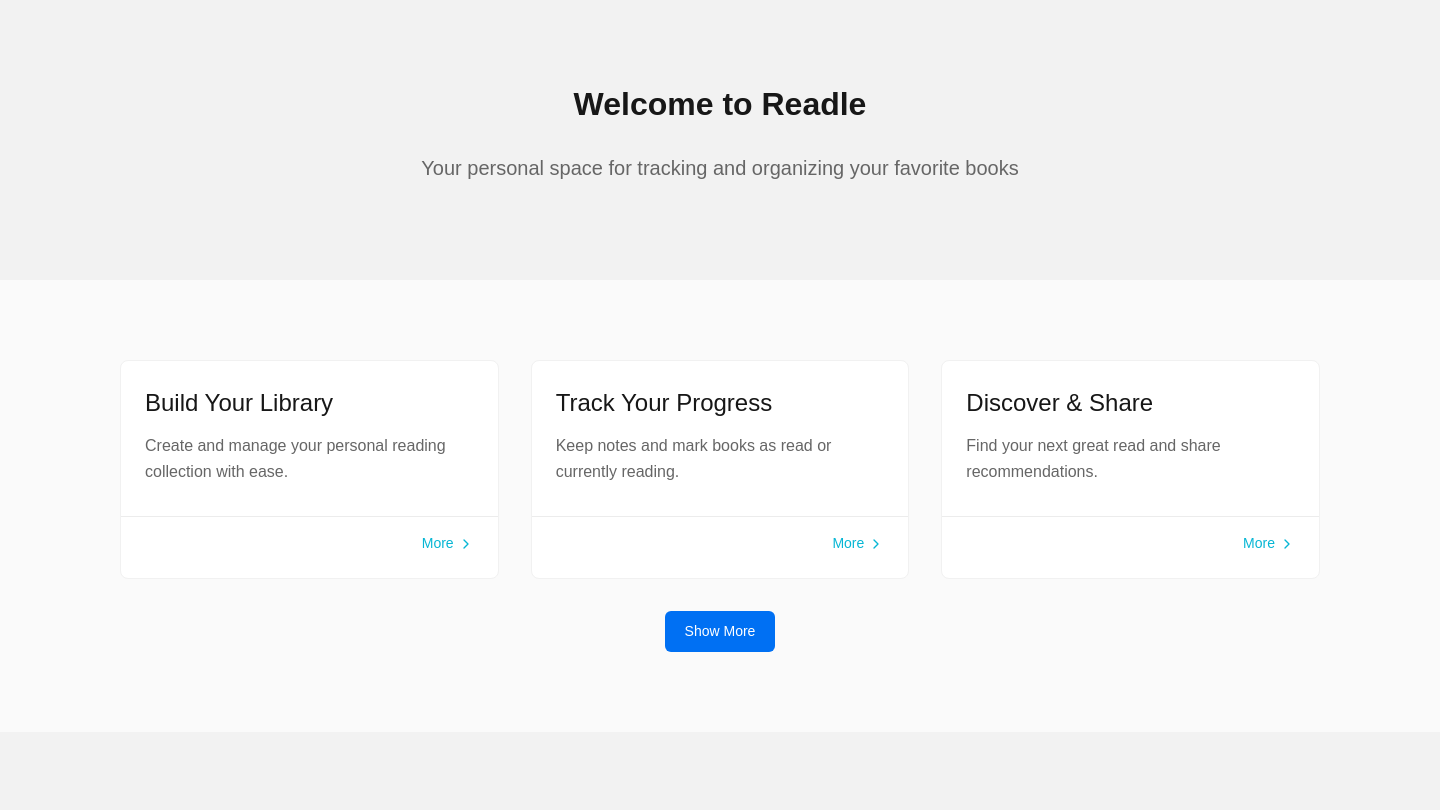
Test: Home Page › should shows the More Features list when the button is clicked
The width and height of the screenshot is (1440, 810).
Step 1. Click the button "Show More" → (720, 632), box [665,611,775,652]
(page scrolled)
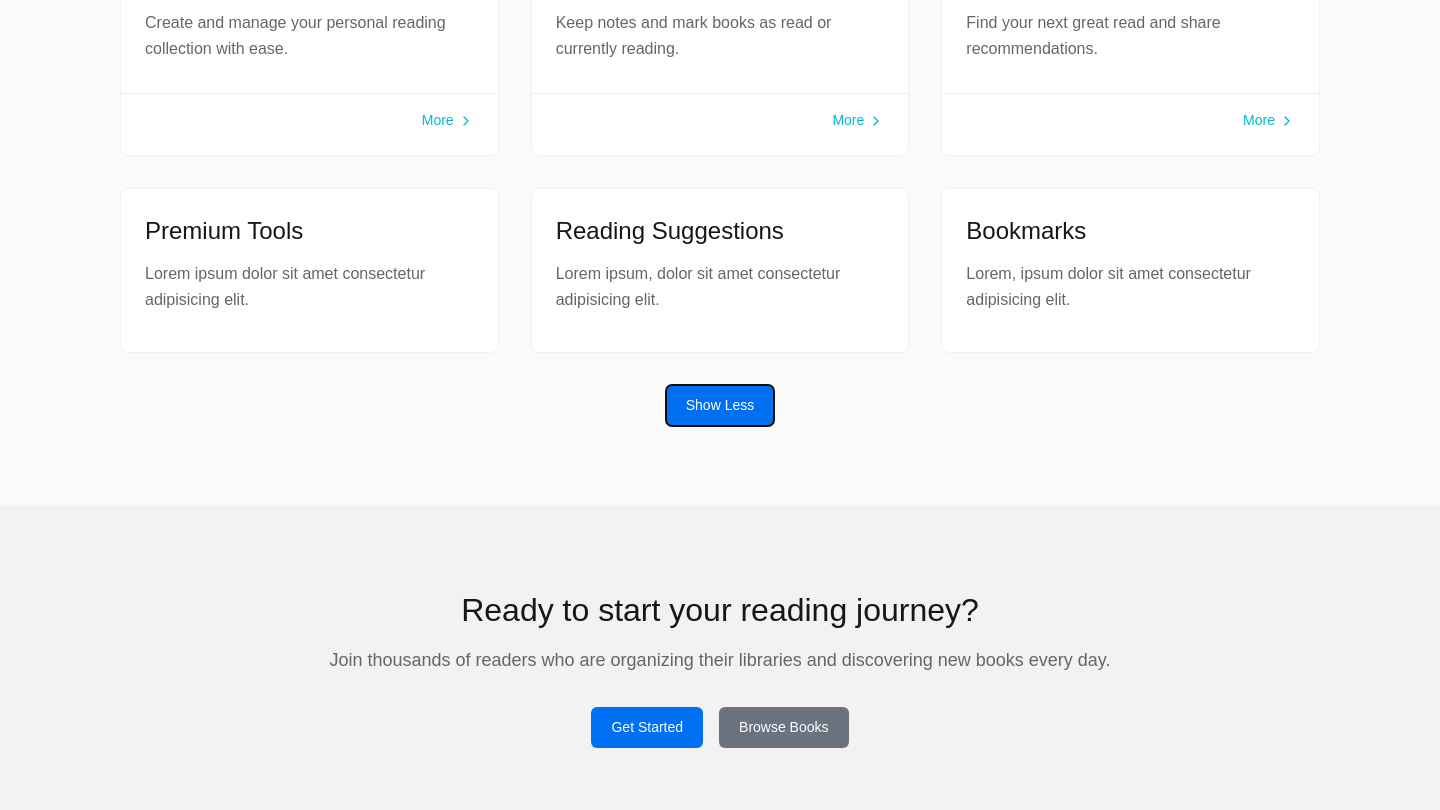
Now the list named "more features" is shown, box [120,188,1320,385]
Now the button named "show more" reads "Show Less", box [666,385,774,426]
